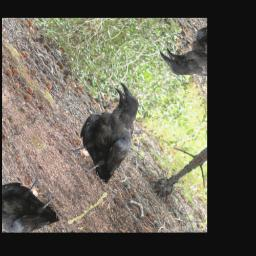Crow: (54, 79, 168, 192)
